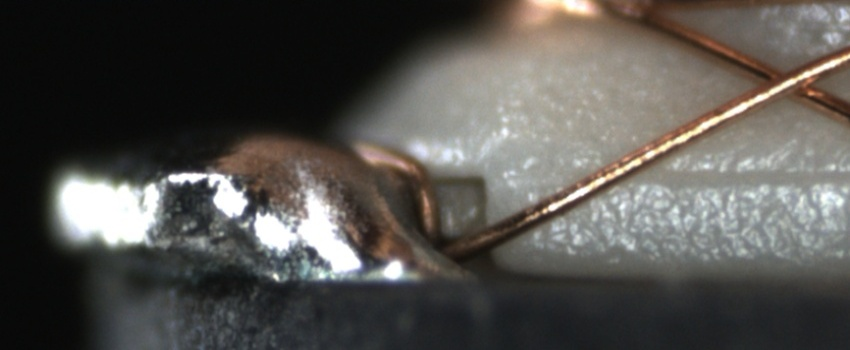CL: (736, 52, 838, 111)
DL: (633, 144, 850, 205)
TE: (351, 135, 448, 249)
